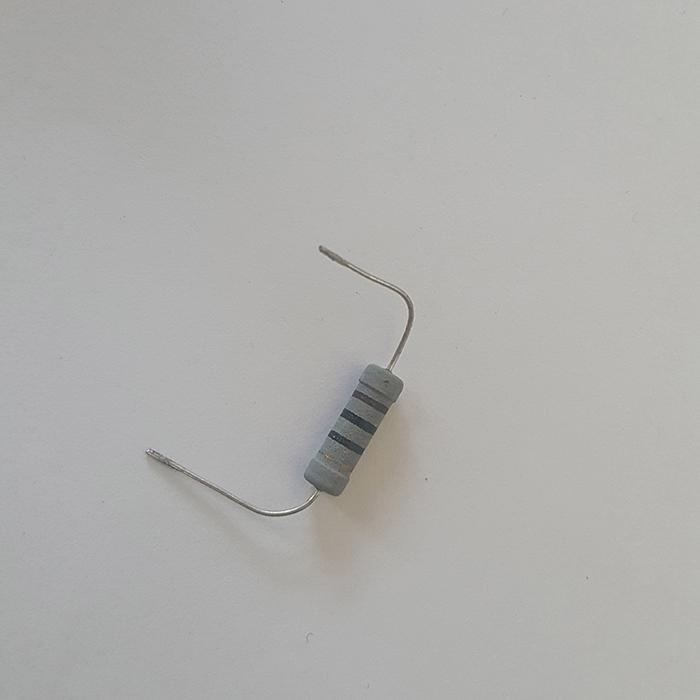resistor: (301, 361, 405, 499)
